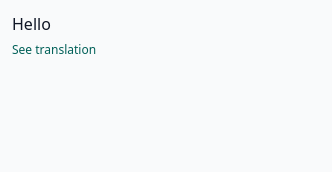
Test: uses the current website language and clears translations when it changes
The image size is (332, 172).
Later steps or results of the test are not shown.
Click the button "See translation".
click(54, 50)  # box left=12, top=42, right=96, bottom=58
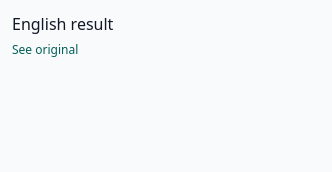
Check: the text "English result" is shown, box left=12, top=13, right=113, bottom=35
